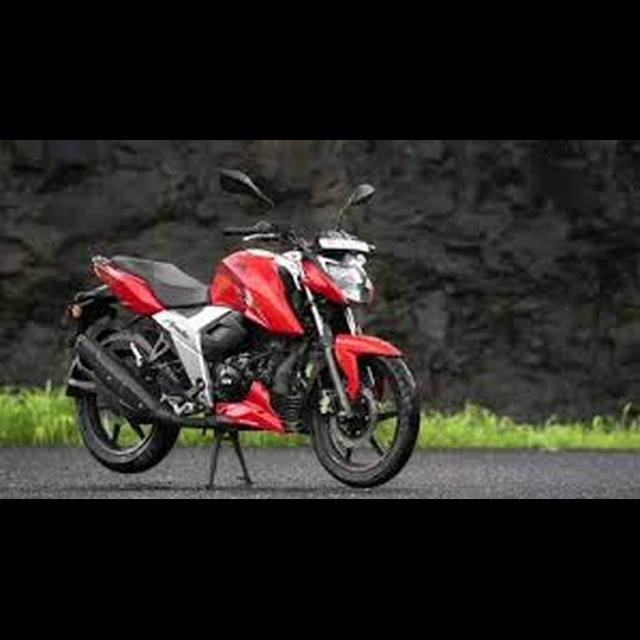motorcycle: (59, 163, 427, 494)
